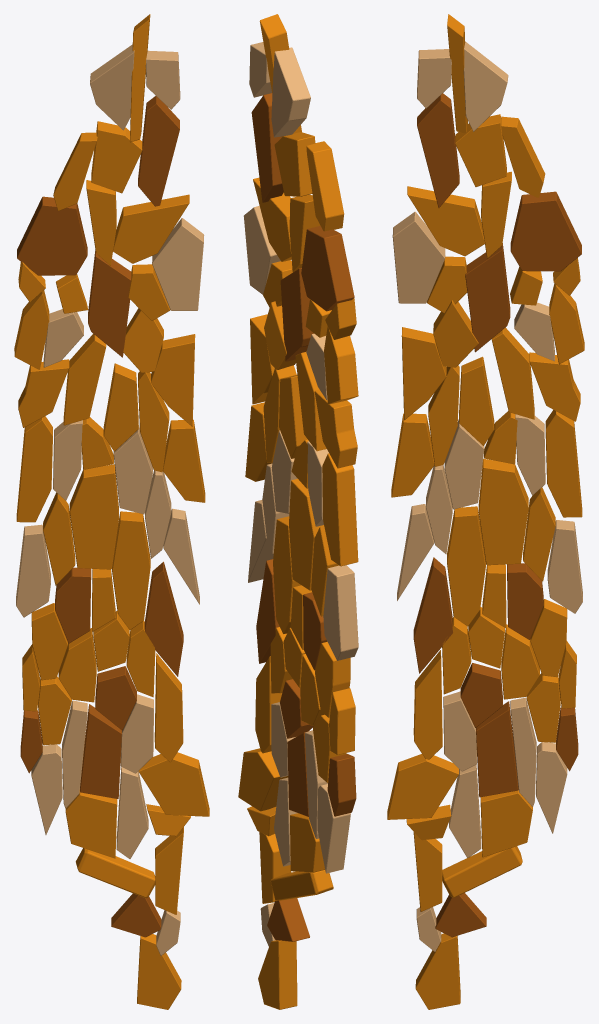
The model's file is Muro1.fbx.
3 renders of one model, left to right at view 1: azimuth 90°, elevation 25°; view 2: azimuth 210°, elevation 25°; view 3: azimuth 270°, elevation 25°, orthographic.
Visible parts, largest first — view 1: Piedrote.017; view 2: Piedrote.017; view 3: Piedrote.017.
Boxes of the visible parts, x1,y1,x2,y2 form: Piedrote.017: [14, 14, 209, 1009]; Piedrote.017: [238, 14, 358, 1009]; Piedrote.017: [387, 14, 584, 1009].
Bounding box in the file's own units: 94.68 × 2341 × 421.
